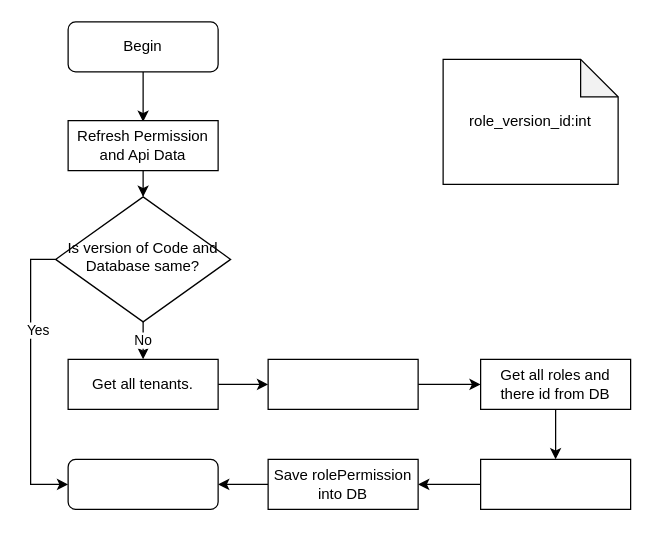
Image size: 653x533. Some labels were removed from this diagram. The shapes that lost their labels are listed below. From the top down, each one's box as (x1, y1, x2, y2) in pixels, then its label:
(267, 358, 418, 409): Save all roles
(67, 458, 218, 509): End
(479, 458, 631, 509): Build rolePermission data with role_id, permissionId,tenantId
